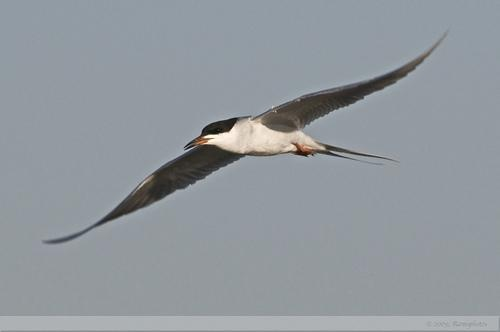bird: (41, 29, 455, 248)
